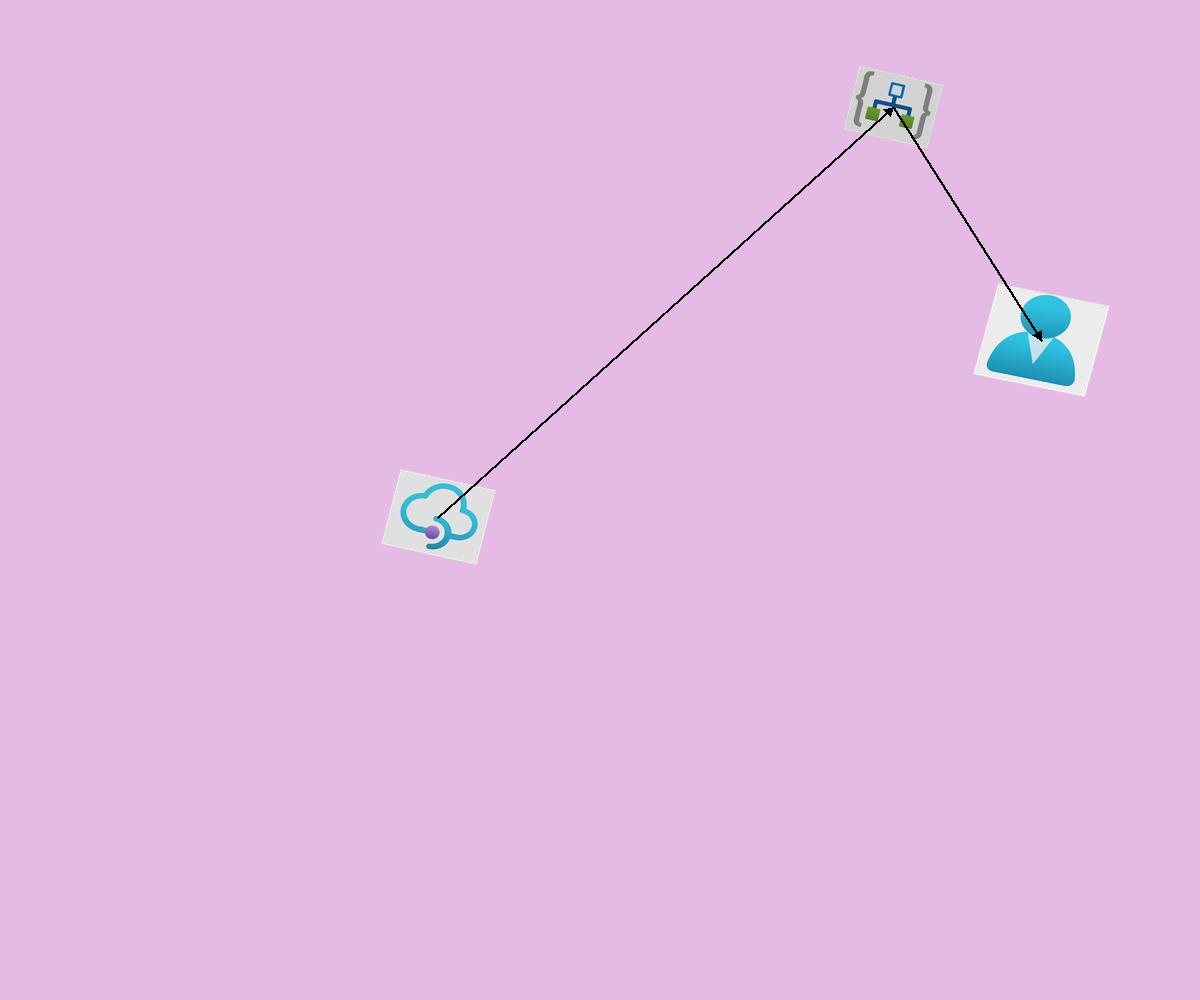Azure_api_gateway: (381, 469, 496, 565)
Azure_integration-204-Logic-Apps: (843, 65, 944, 149)
Azure_users: (973, 283, 1110, 397)
